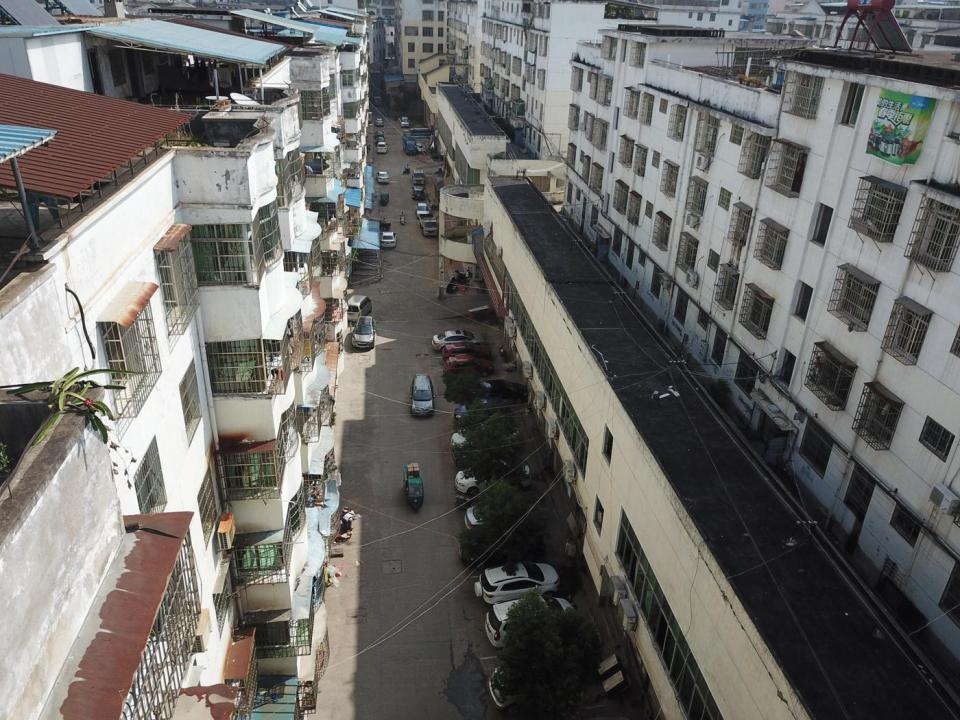car: (476, 562, 560, 604), (457, 465, 529, 498), (464, 505, 531, 535), (453, 398, 524, 421), (450, 426, 524, 448), (468, 382, 529, 400), (444, 355, 493, 376), (412, 373, 434, 416), (433, 330, 474, 352), (353, 316, 377, 351), (442, 343, 490, 356), (379, 231, 397, 248), (416, 202, 429, 218), (412, 186, 425, 199), (376, 172, 389, 182), (376, 136, 384, 146), (374, 130, 383, 138), (417, 143, 424, 152), (376, 119, 383, 126)
truck: (419, 213, 437, 236), (402, 133, 416, 154), (412, 169, 425, 184), (374, 96, 382, 106)
van: (489, 661, 574, 711), (487, 600, 575, 646), (346, 294, 372, 322), (377, 141, 388, 153), (400, 116, 409, 128)
